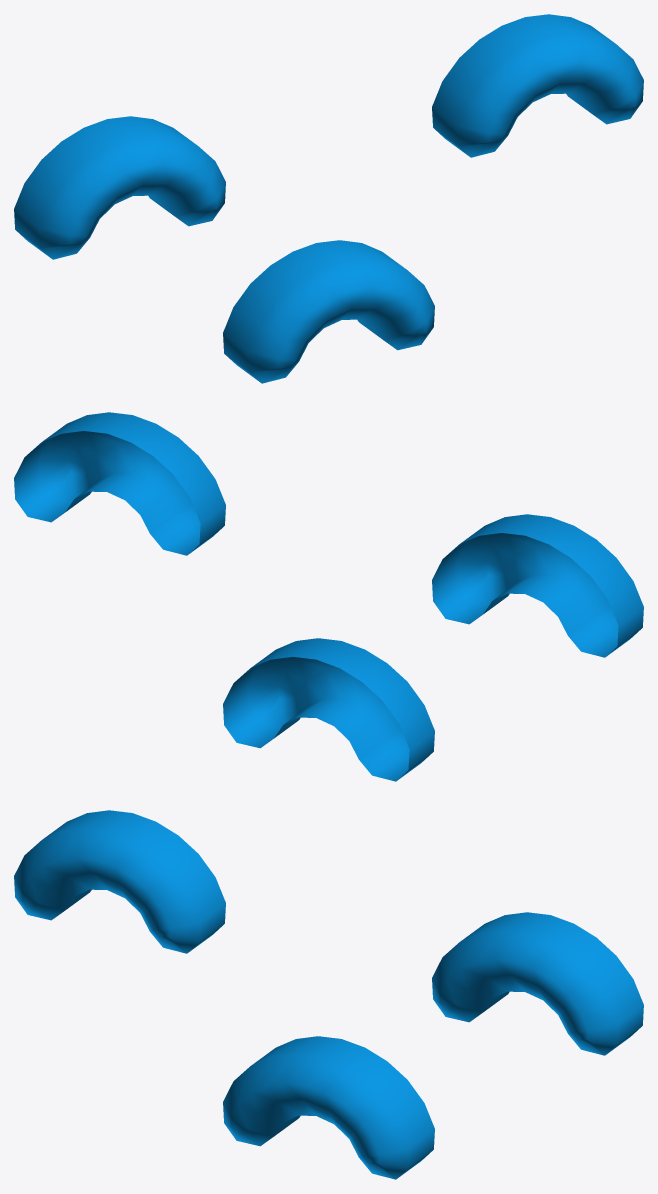
File: Drone_002_Face_Sad_001.fbx
3 renders of one model, top to bottom at view 1: azimuth 30°, elevation 25°; view 2: azimuth 150°, elevation 25°; view 3: azimuth 330°, elevation 25°, orthographic.
Visible parts, largest first — view 1: Drone_002_Face_Sad_001; view 2: Drone_002_Face_Sad_001; view 3: Drone_002_Face_Sad_001.
Part boxes in pixels (x1,y1,x2,y2): Drone_002_Face_Sad_001: (14, 14, 643, 383); Drone_002_Face_Sad_001: (14, 412, 643, 781); Drone_002_Face_Sad_001: (14, 810, 643, 1179).
Size of the model in its own units: 11.55 by 1.2 by 5.07.
